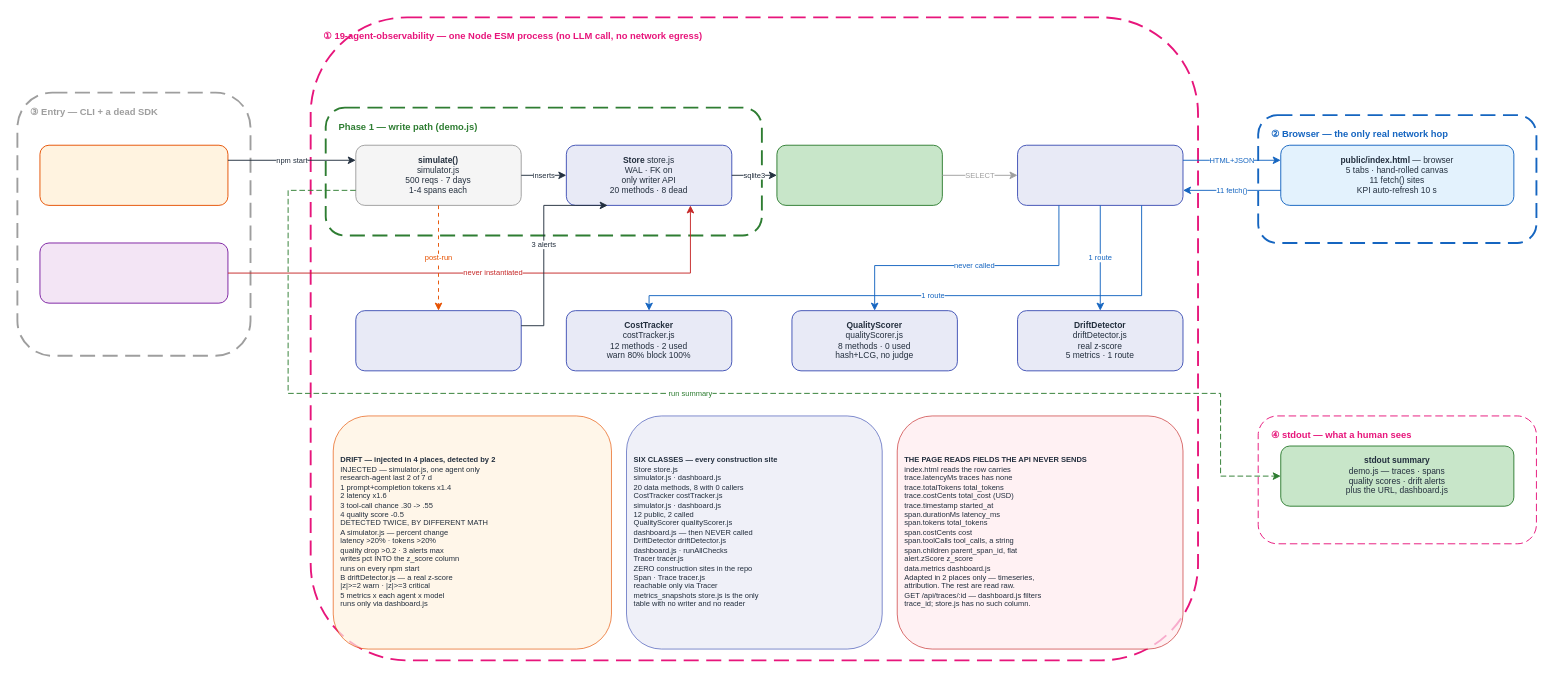
Some shapes in this 1553 by 677 pixel diagram are drawn without their labels. The box of each missing label's shape, as (x1, y1, x2, y2) in pixels:
demo.js — npm start unlink DB first simulate() startDashboard(): (39, 144, 228, 205)
inline drift check simulator.js pct change, not z 3 alerts, 1 agent: (355, 310, 521, 371)
observability.db SQLite · 7 tables 6 ever written wiped each run: (776, 144, 942, 205)
startDashboard() dashboard.js express · 13 routes 12 use store.db raw: (1017, 144, 1183, 205)
Tracer tracer.js DEAD — 0 new sites Span.end() writes camelCase keys: (39, 242, 228, 303)
